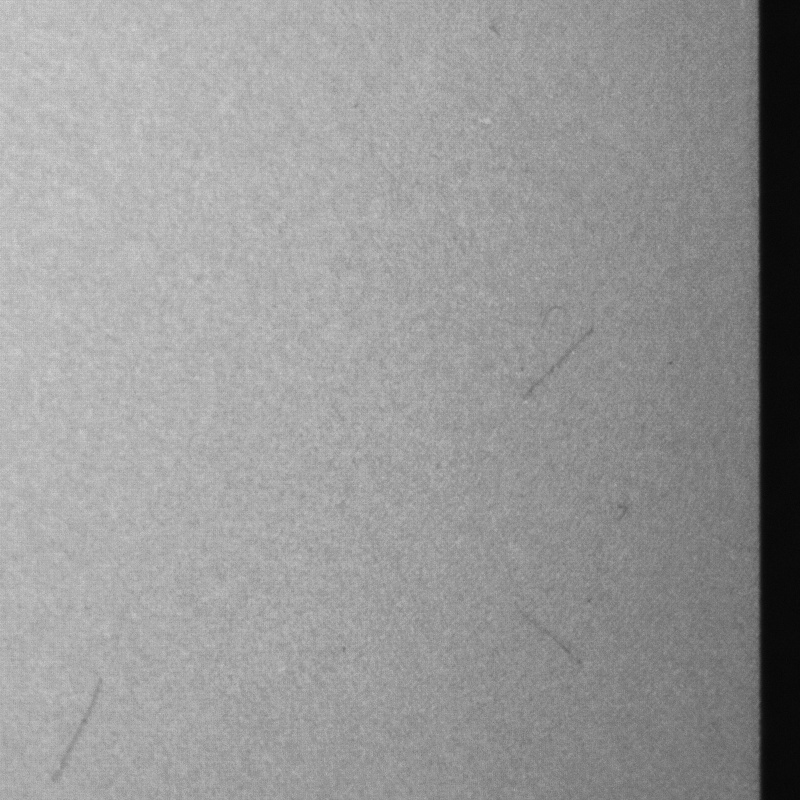defect: (517, 331, 592, 408), (516, 606, 589, 675), (50, 684, 97, 782), (618, 504, 633, 525)
